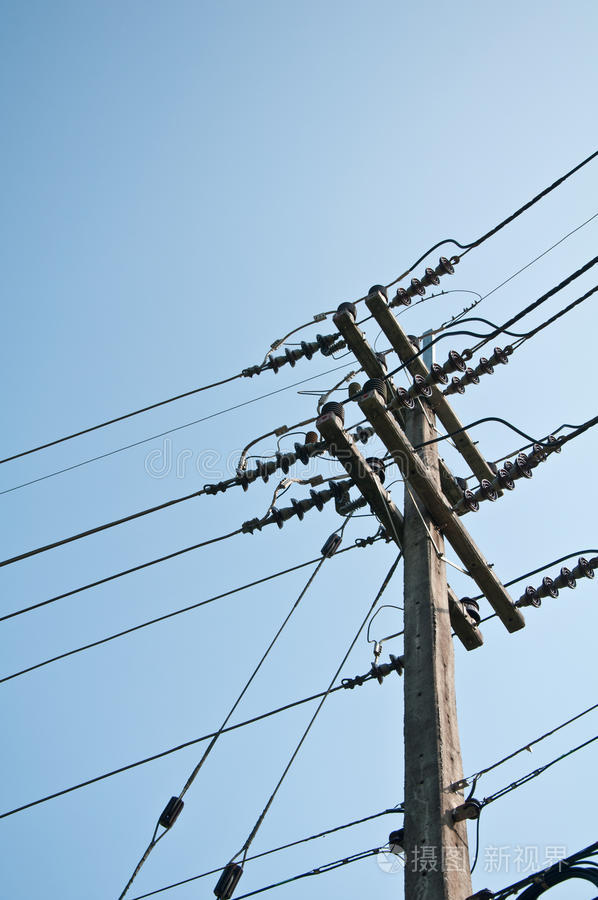insulator: (463, 436, 564, 510), (397, 345, 470, 408), (230, 441, 306, 488), (524, 559, 596, 608), (394, 253, 459, 304), (448, 344, 510, 394), (268, 486, 326, 529), (268, 333, 326, 372), (369, 649, 398, 683)
